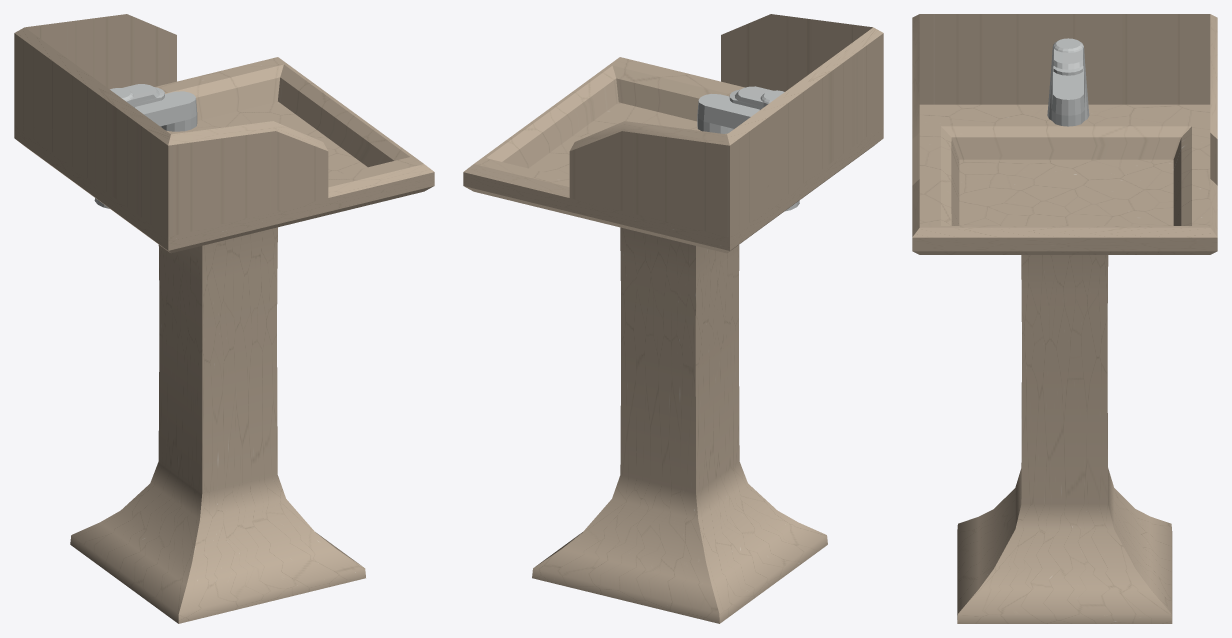
Rendered from sink.fbx.
3 views of the same model, side by side, from view 1: azimuth 30°, elevation 25°; view 2: azimuth 150°, elevation 25°; view 3: azimuth 270°, elevation 25° (orthographic).
Visible parts, largest first — view 1: pCube648, pCube647, pCylinder475; view 2: pCube648, pCube647, pCylinder475; view 3: pCube648, pCube647, pCylinder475.
Boxes of the visible parts, <box> form: pCube648: <box>14,14,434,253</box>; pCube647: <box>70,227,365,623</box>; pCylinder475: <box>94,84,197,208</box>; pCube648: <box>463,14,883,253</box>; pCube647: <box>532,227,827,623</box>; pCylinder475: <box>697,86,799,211</box>; pCube648: <box>912,14,1217,254</box>; pCube647: <box>957,255,1172,623</box>; pCylinder475: <box>1047,38,1089,126</box>.
Bounding box in the file's own units: 0.7131 × 1.3 × 0.7131.
